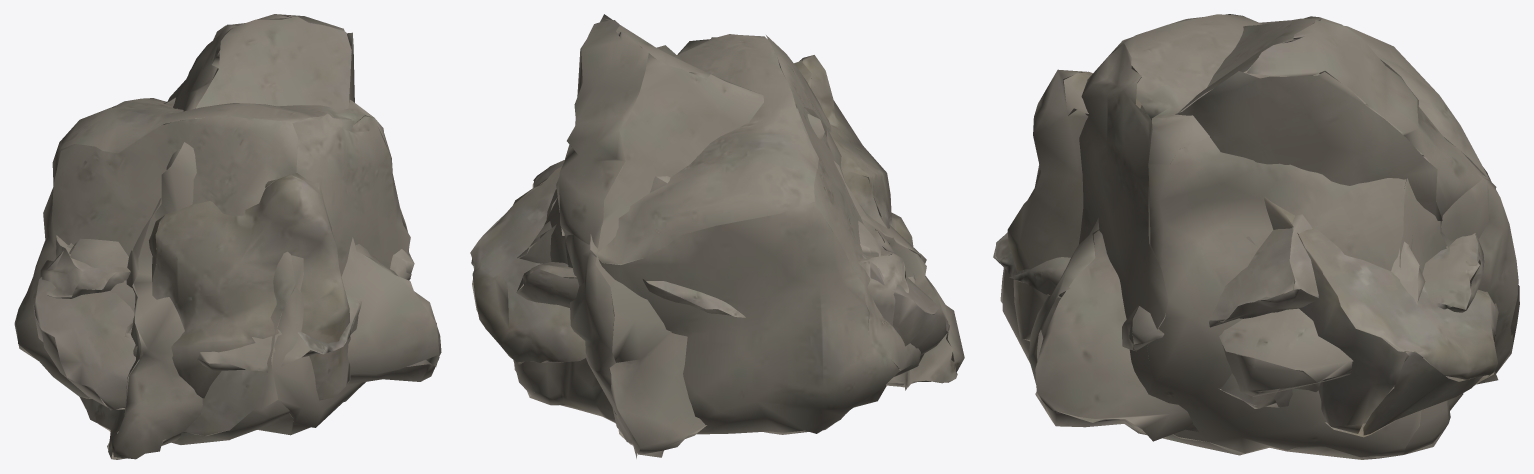
The model's file is rocks.glb.
3 renders of one model, left to right at view 1: azimuth 30°, elevation 25°; view 2: azimuth 150°, elevation 25°; view 3: azimuth 270°, elevation 25°, orthographic. The views are drawn at different scales.
Visible parts, largest first — view 1: Rock2, Rock5, Rock6, Rock7, Rock1, Rock4, Rock3; view 2: Rock2, Rock5, Rock6, Rock4, Rock7, Rock1, Rock3; view 3: Rock2, Rock5, Rock6, Rock3, Rock1, Rock4, Rock7.
Boxes of the visible parts, x1,y1,x2,y2 form: Rock2: [14, 88, 410, 444]; Rock5: [79, 14, 441, 459]; Rock6: [133, 173, 350, 400]; Rock7: [33, 243, 139, 410]; Rock1: [40, 235, 414, 298]; Rock4: [124, 149, 361, 372]; Rock3: [69, 97, 200, 334]; Rock2: [513, 34, 923, 434]; Rock5: [556, 14, 964, 458]; Rock6: [470, 55, 915, 364]; Rock4: [516, 262, 745, 317]; Rock7: [563, 134, 949, 369]; Rock1: [532, 160, 908, 330]; Rock3: [517, 176, 914, 301]; Rock2: [1000, 14, 1491, 459]; Rock5: [1028, 16, 1519, 441]; Rock6: [1007, 69, 1498, 437]; Rock3: [1219, 103, 1425, 396]; Rock1: [1122, 214, 1325, 353]; Rock4: [993, 232, 1484, 312]; Rock7: [1220, 236, 1320, 408].
Size of the model in its own units: 1.09 by 0.9086 by 1.07.
Materials: 7 (7 with a texture image).
